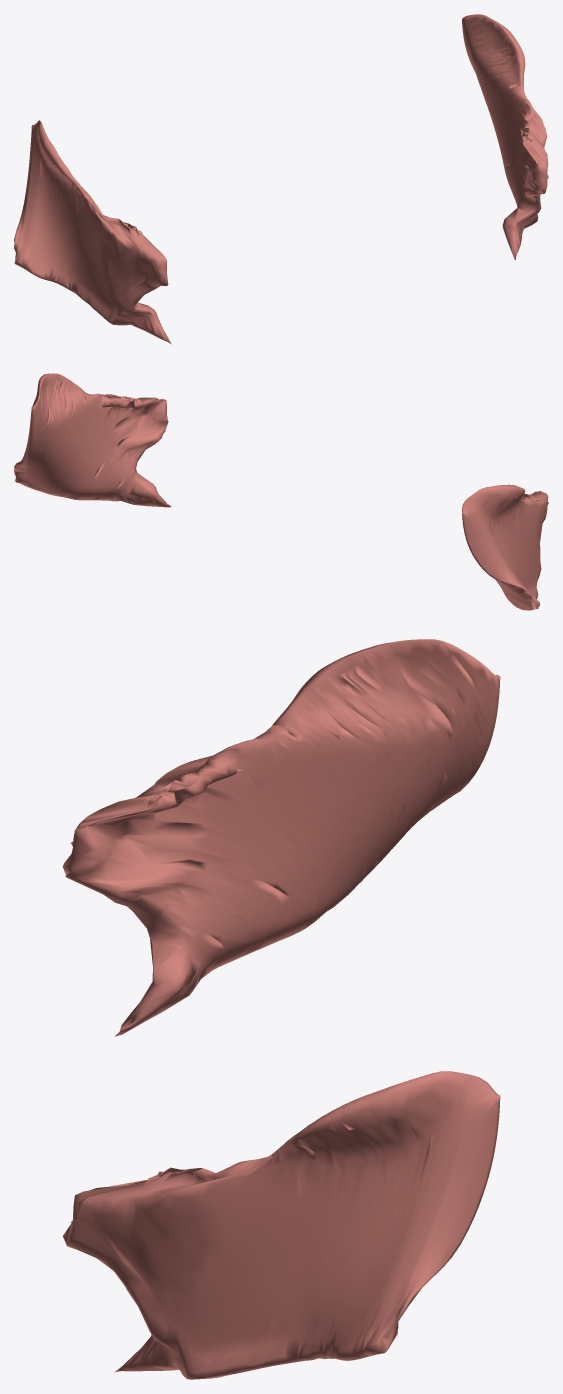
File: buccinator_lod1.glb
3 views of the same model, one above another, from view 1: azimuth 30°, elevation 25°; view 2: azimuth 150°, elevation 25°; view 3: azimuth 270°, elevation 25° (orthographic). The views are drawn at different scales.
Parts seen in each view (by area): view 1: buccinator_R_lod1, buccinator_L_lod1; view 2: buccinator_L_lod1, buccinator_R_lod1; view 3: buccinator_L_lod1, buccinator_R_lod1.
Part boxes in pixels (bbox=[...]): buccinator_R_lod1: bbox=[14, 120, 171, 344]; buccinator_L_lod1: bbox=[462, 14, 548, 259]; buccinator_L_lod1: bbox=[14, 373, 171, 507]; buccinator_R_lod1: bbox=[462, 484, 548, 610]; buccinator_L_lod1: bbox=[62, 1071, 500, 1379]; buccinator_R_lod1: bbox=[62, 639, 500, 1036].
Bounding box in the file's own units: 0.0777 × 0.0247 × 0.0281.
